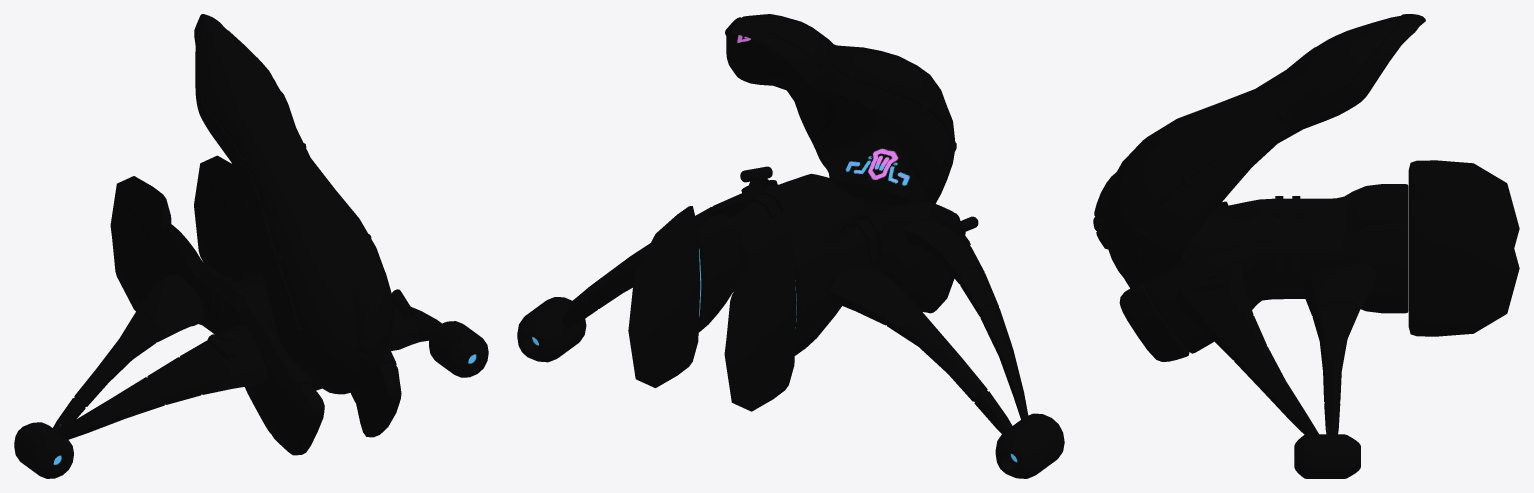
File: halo_banshee.glb
3 views of the same model, side by side, from view 1: azimuth 30°, elevation 25°; view 2: azimuth 150°, elevation 25°; view 3: azimuth 270°, elevation 25° (orthographic). The views are drawn at different scales.
Visible parts, largest first — view 1: Banshee_Banshee_0; view 2: Banshee_Banshee_0; view 3: Banshee_Banshee_0.
Part boxes in pixels (x1,y1,x2,y2): Banshee_Banshee_0: [14, 14, 488, 478]; Banshee_Banshee_0: [517, 14, 1064, 478]; Banshee_Banshee_0: [1093, 14, 1519, 478].
Bounding box in the file's own units: 0.0339 × 0.0265 × 0.0282.
Materials: 2 (2 with a texture image).
